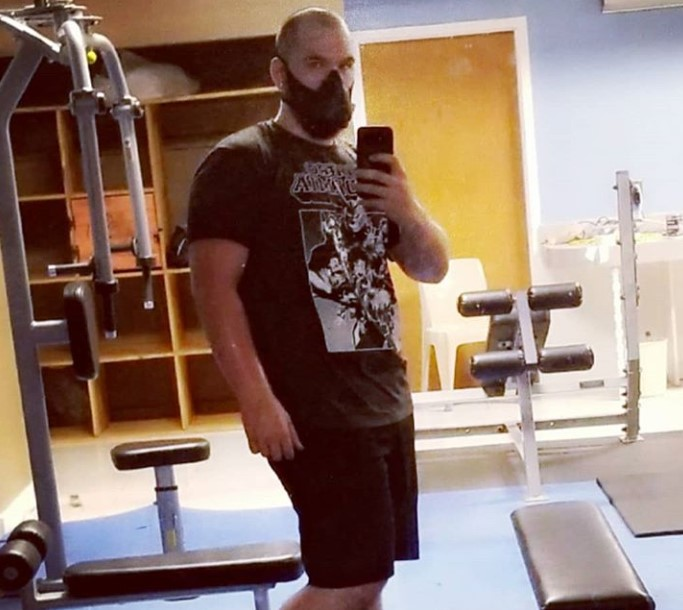face_with_mask: (266, 14, 361, 142)
